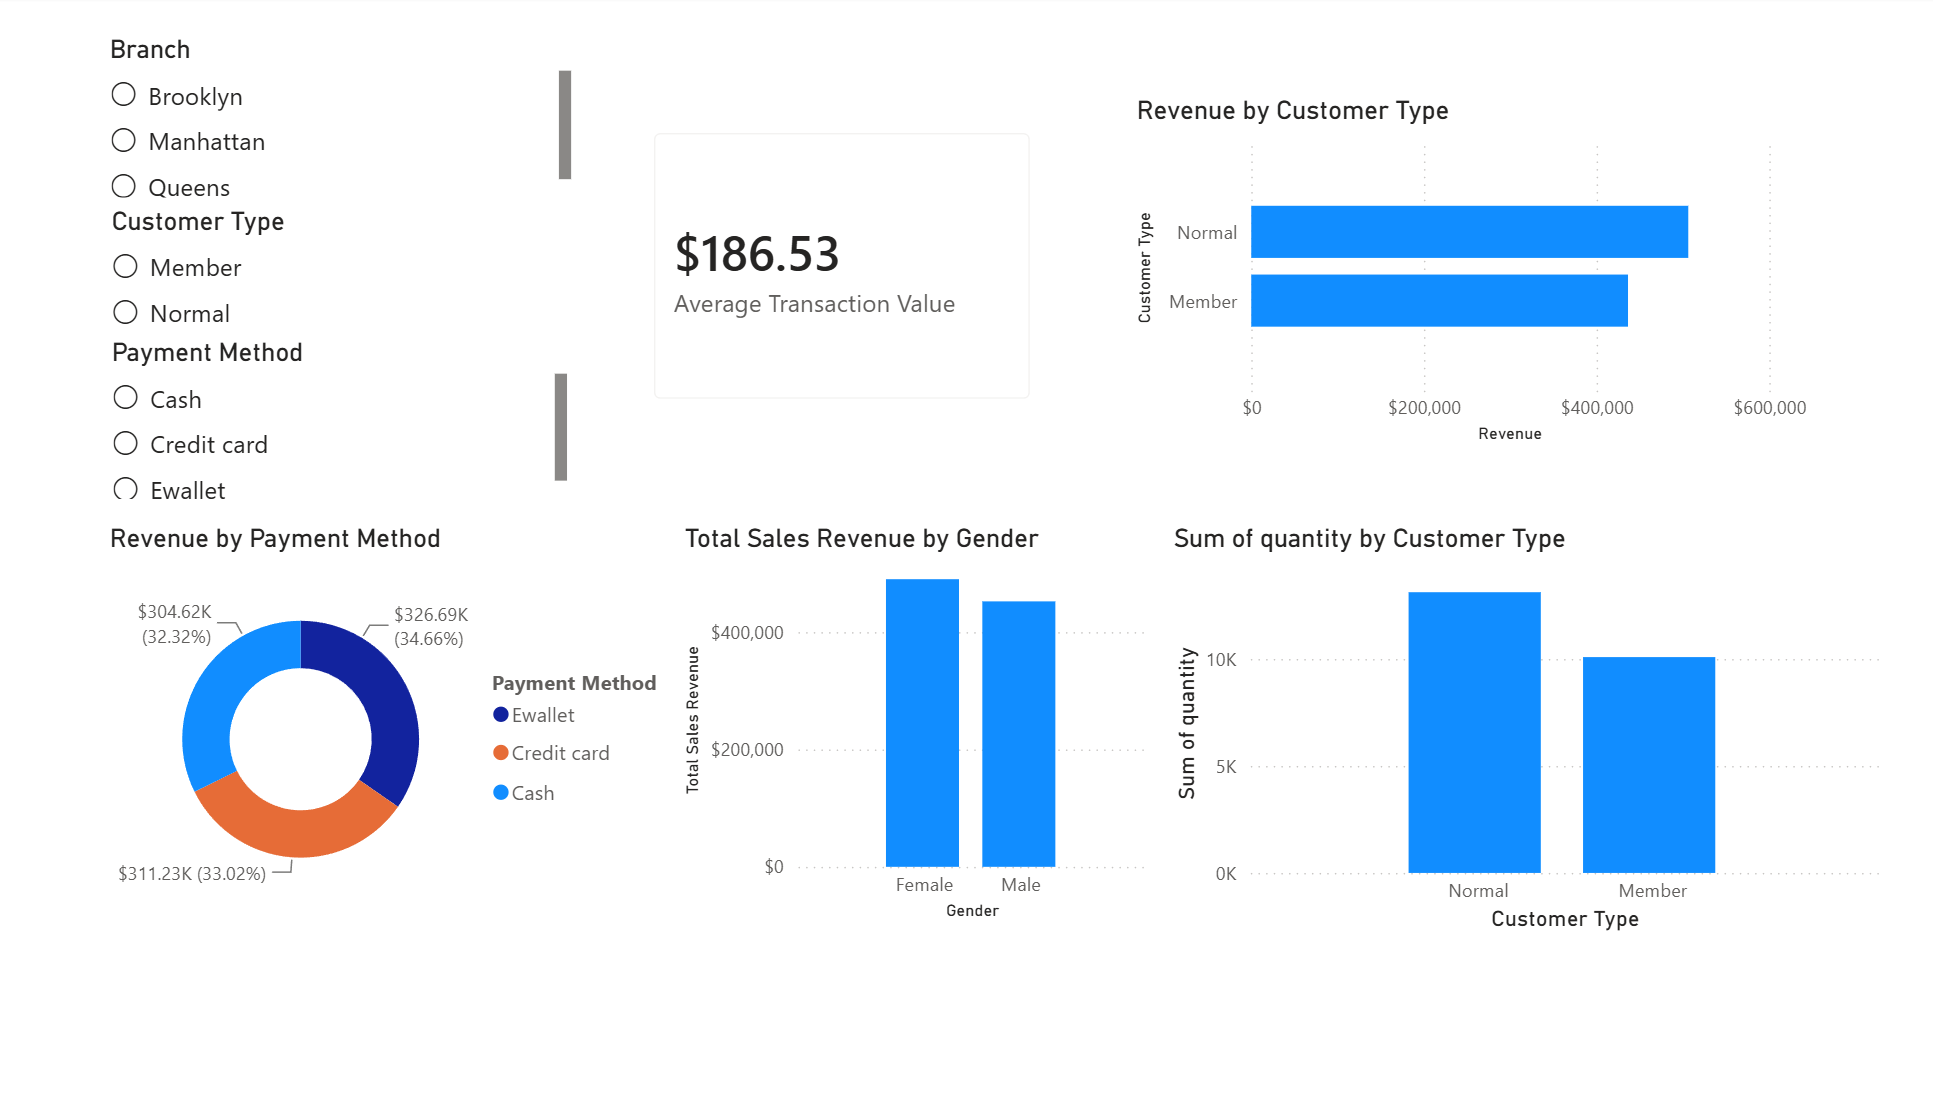

The dashboard page shown, as its layout file describes it:
{"tool":"powerbi","page":{"name":"Page 2","canvas":[1280,720],"ordinal":1},"visuals":[{"type":"cardVisual","fields":{"Data":["sales_clean.Average Transaction Value"]},"box":[424,72,280,208],"z":0},{"type":"clusteredBarChart","fields":{"Category":["sales_clean.customertype"],"Y":["sales_clean.Revenue"]},"box":[752,64,448,232],"z":1000},{"type":"donutChart","fields":{"Y":["sales_clean.Revenue"],"Category":["sales_clean.payment"]},"box":[80,344,384,264],"z":2000},{"type":"clusteredColumnChart","fields":{"Category":["sales_clean.gender"],"Y":["sales_clean.Total Sales Revenue"]},"box":[456,344,312,264],"z":3000},{"type":"clusteredColumnChart","fields":{"Category":["sales_clean.customertype"],"Y":["Sum(sales_clean.quantity)"]},"box":[776,344,472,272],"z":4000},{"type":"listSlicer","fields":{"Values":["sales_clean.Branch"]},"box":[80,24,312,112],"z":5000},{"type":"listSlicer","fields":{"Values":["sales_clean.Customer Type"]},"box":[81.1,136.8,308.9,105.4],"z":6000},{"type":"listSlicer","fields":{"Values":["sales_clean.payment"]},"box":[81.1,222.5,308.9,111.9],"z":7000}]}

Visuals, with their boxes in screenshot pixels (x1, y1, x2, y2), scaled from the page's 1280x720 canvas onto the 1933x1096 screenshot:
cardVisual - sales_clean.Average Transaction Value: [x1=640, y1=110, x2=1063, y2=426]
clusteredBarChart - sales_clean.customertype x sales_clean.Revenue: [x1=1136, y1=97, x2=1812, y2=451]
donutChart - sales_clean.Revenue x sales_clean.payment: [x1=121, y1=524, x2=701, y2=926]
clusteredColumnChart - sales_clean.gender x sales_clean.Total Sales Revenue: [x1=689, y1=524, x2=1160, y2=926]
clusteredColumnChart - sales_clean.customertype x Sum(sales_clean.quantity): [x1=1172, y1=524, x2=1885, y2=938]
listSlicer - sales_clean.Branch: [x1=121, y1=37, x2=592, y2=207]
listSlicer - sales_clean.Customer Type: [x1=122, y1=208, x2=589, y2=369]
listSlicer - sales_clean.payment: [x1=122, y1=339, x2=589, y2=509]
